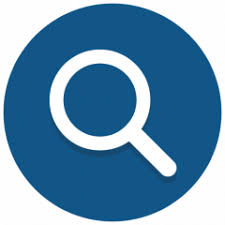searchIcon: (49, 48, 179, 179)
